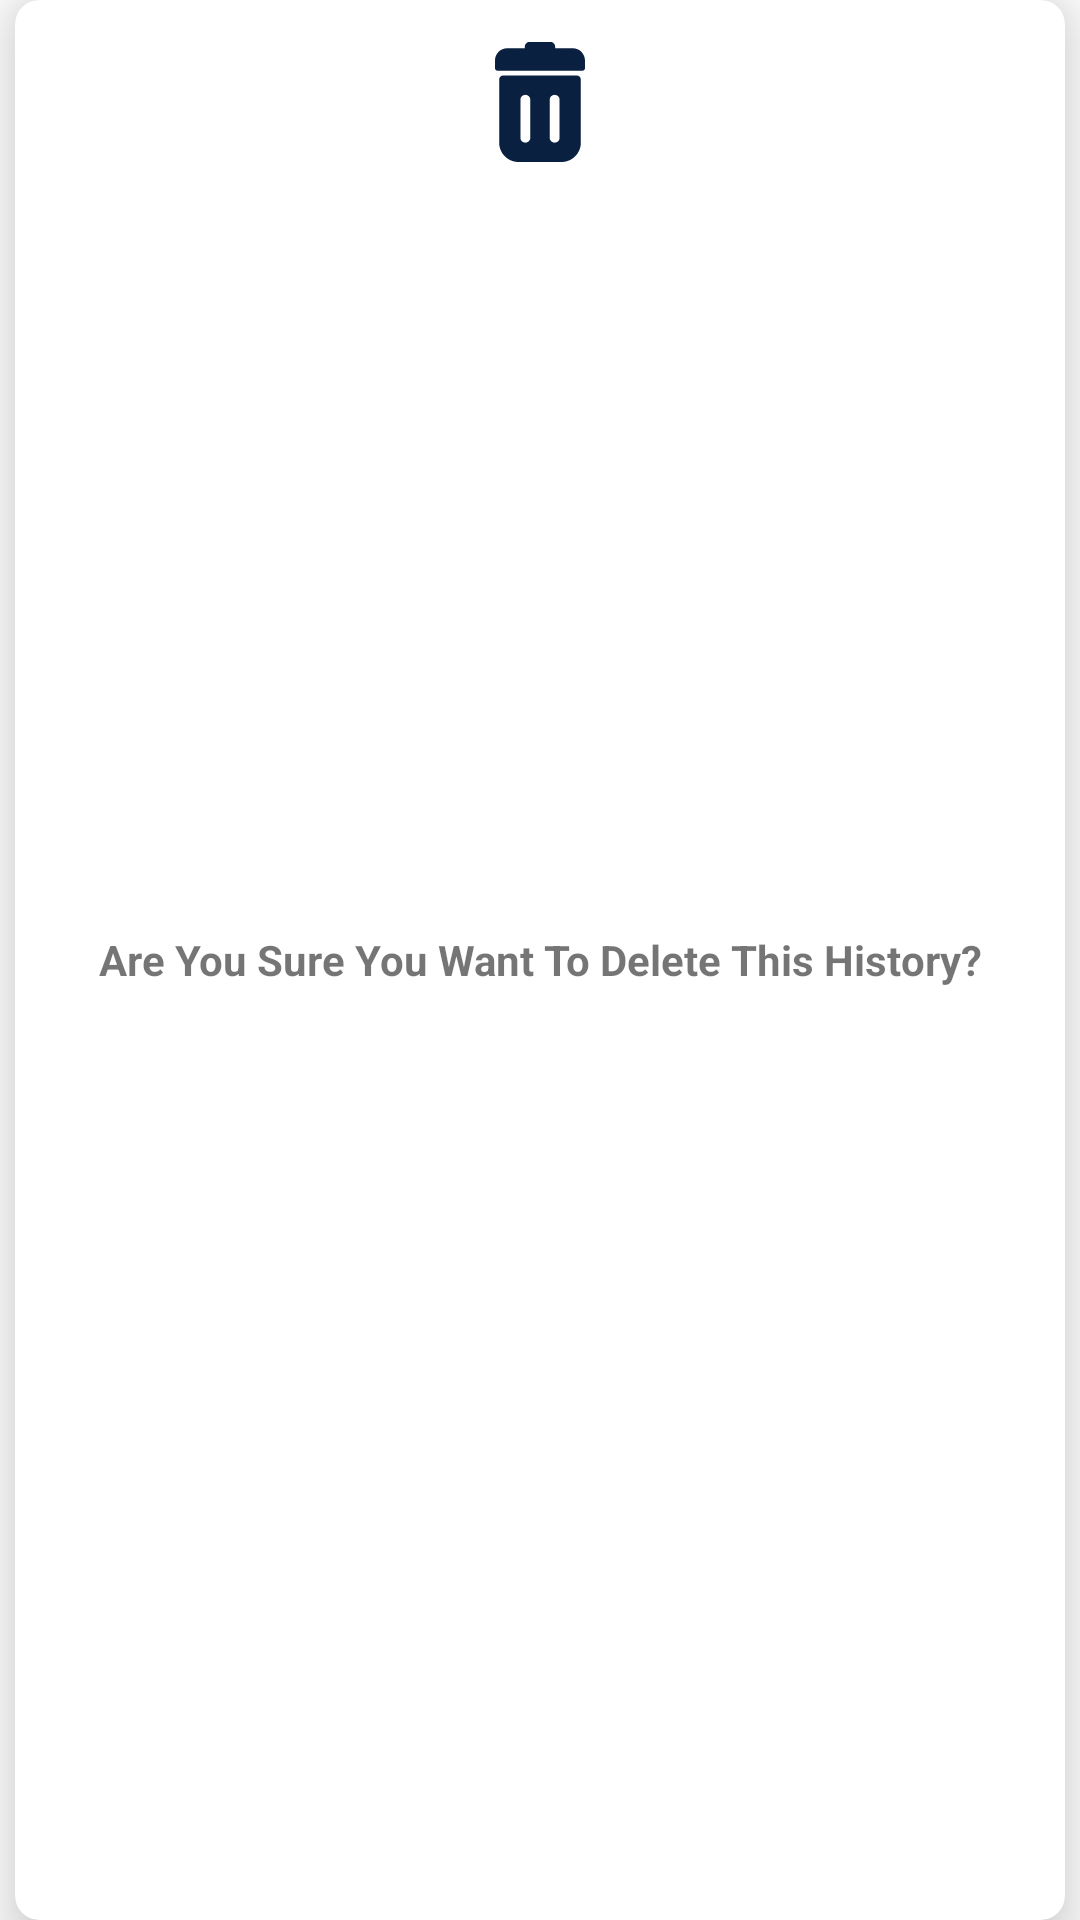

Locate icon controls on the screen. Image size 1080w x 1920h, boxes as region(x1, y1, x2, y2).
dustbin: region(495, 42, 585, 162)
